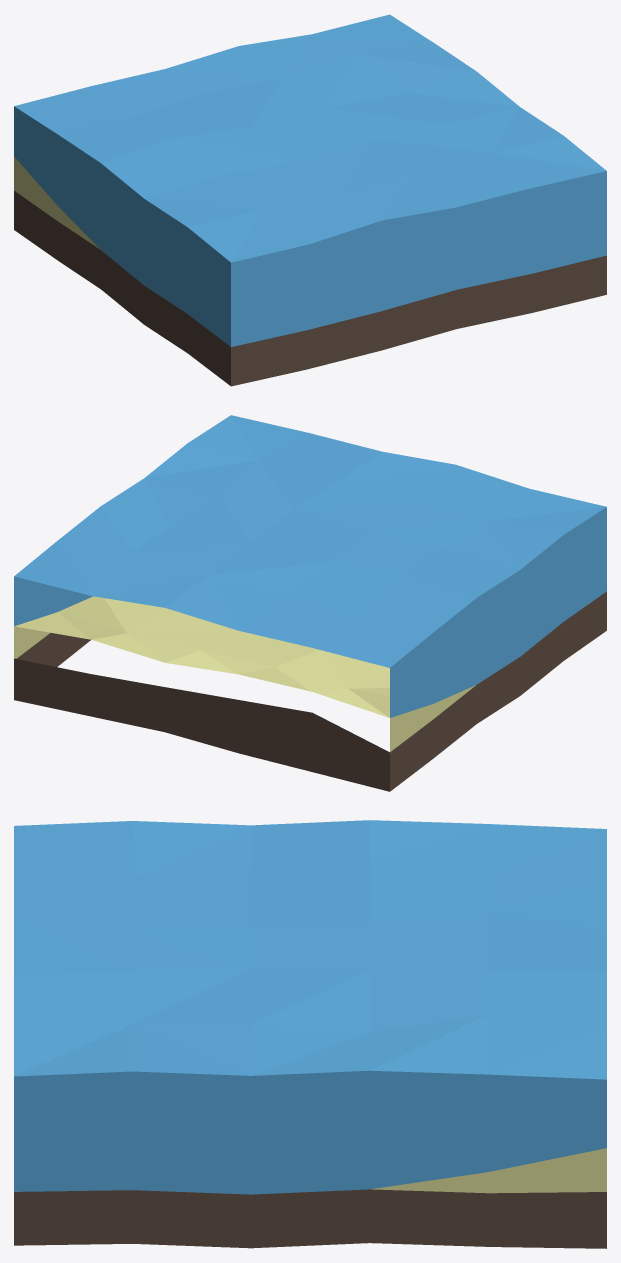
The model's file is sea01.fbx.
3 renders of one model, top to bottom at view 1: azimuth 30°, elevation 25°; view 2: azimuth 150°, elevation 25°; view 3: azimuth 270°, elevation 25°, orthographic. The views are drawn at different scales.
Visible parts, largest first — view 1: polySurface6; view 2: polySurface6; view 3: polySurface6.
Boxes of the visible parts, x1,y1,x2,y2 form: polySurface6: (14, 14, 606, 386); polySurface6: (14, 415, 606, 791); polySurface6: (14, 820, 606, 1248).
Size of the model in its own units: 20 by 7 by 20.
